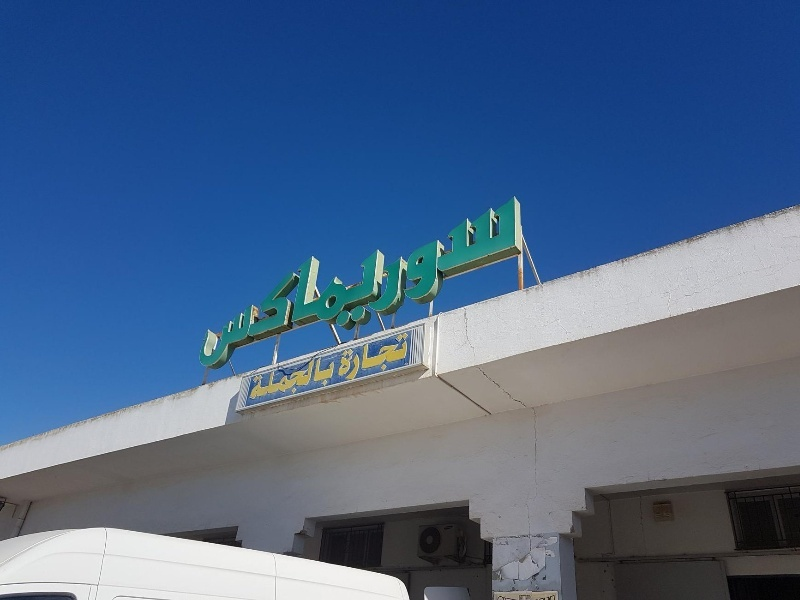text: (225, 193, 240, 372), (241, 193, 256, 372), (257, 193, 272, 372), (273, 193, 288, 372), (289, 193, 304, 372), (305, 193, 320, 372), (321, 193, 336, 372), (337, 193, 352, 372), (353, 193, 368, 372), (369, 193, 384, 372), (385, 193, 400, 372), (401, 193, 416, 372), (417, 193, 432, 372), (433, 193, 448, 372), (449, 193, 464, 372), (465, 193, 480, 372), (481, 193, 496, 372), (497, 193, 512, 372), (513, 193, 527, 372), (214, 193, 224, 372), (353, 331, 368, 383), (369, 331, 384, 383), (385, 331, 400, 383), (257, 355, 272, 405), (273, 355, 288, 405), (289, 355, 304, 405), (305, 355, 320, 405), (321, 355, 335, 405), (341, 331, 352, 383), (401, 331, 408, 383), (255, 355, 256, 405), (518, 595, 528, 600), (529, 595, 531, 600)
